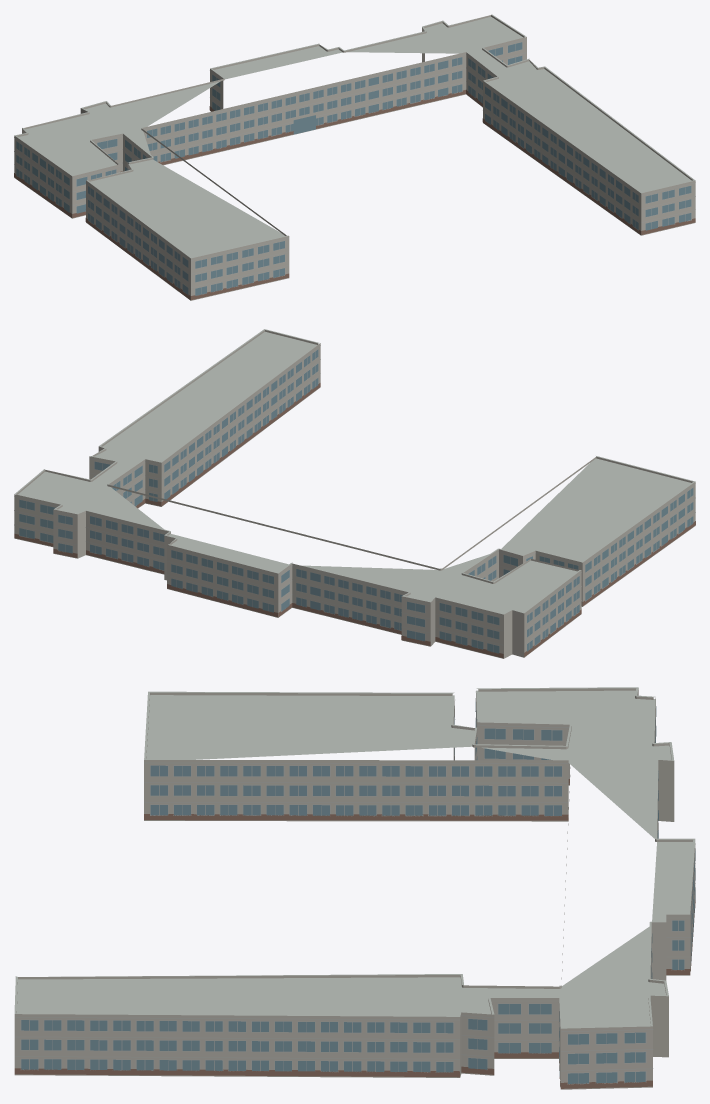
The model's file is public-b6cd71c5-7b40-46d7-83f5-87ae8d9c6b12.glb.
The picture shows the model from 3 angles, top to bottom: view 1: azimuth 30°, elevation 25°; view 2: azimuth 150°, elevation 25°; view 3: azimuth 270°, elevation 25°; orthographic projection. The views are drawn at different scales.
Visible parts, largest first — view 1: public-b6cd71c5-7b40-46d7-83f5-87ae8d9c6b12; view 2: public-b6cd71c5-7b40-46d7-83f5-87ae8d9c6b12; view 3: public-b6cd71c5-7b40-46d7-83f5-87ae8d9c6b12.
Boxes of the visible parts, x1,y1,x2,y2 form: public-b6cd71c5-7b40-46d7-83f5-87ae8d9c6b12: [14, 14, 695, 300]; public-b6cd71c5-7b40-46d7-83f5-87ae8d9c6b12: [14, 329, 695, 658]; public-b6cd71c5-7b40-46d7-83f5-87ae8d9c6b12: [14, 687, 695, 1089].
Size of the model in its own units: 110 by 9.15 by 92.52.
